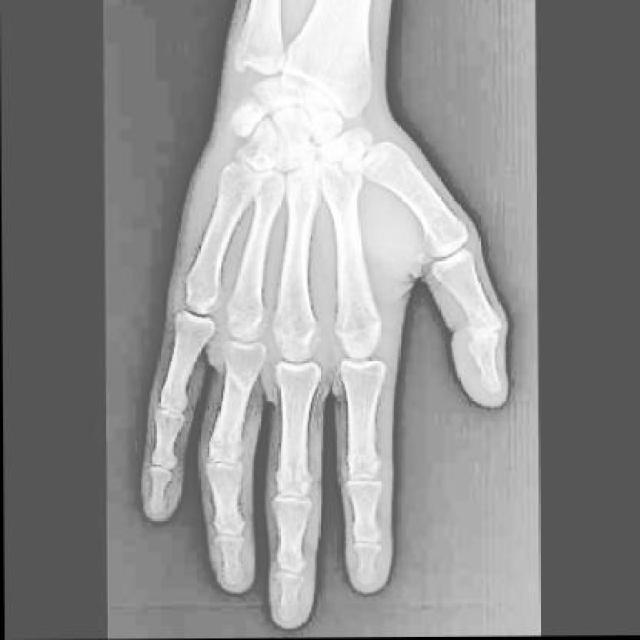Fracture: (468, 314, 504, 358)
